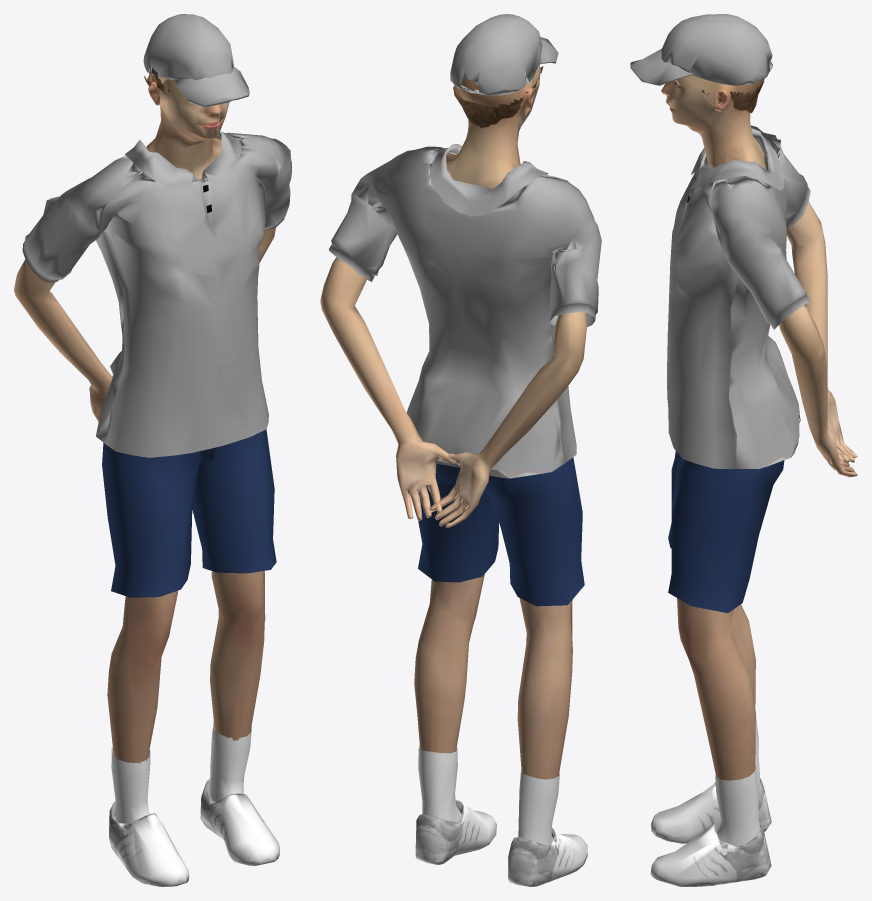
File: ballkind.glb
3 renders of one model, left to right at view 1: azimuth 30°, elevation 25°; view 2: azimuth 150°, elevation 25°; view 3: azimuth 270°, elevation 25°, orthographic.
Visible parts, largest first — view 1: ballkind; view 2: ballkind; view 3: ballkind.
Part boxes in pixels (box(x1,y1,x2,y2)): ballkind: box(14, 14, 291, 886); ballkind: box(320, 14, 601, 886); ballkind: box(630, 14, 857, 886).
Size of the model in its own units: 0.4774 by 1.47 by 0.3609.
1 material, 1 textured.
